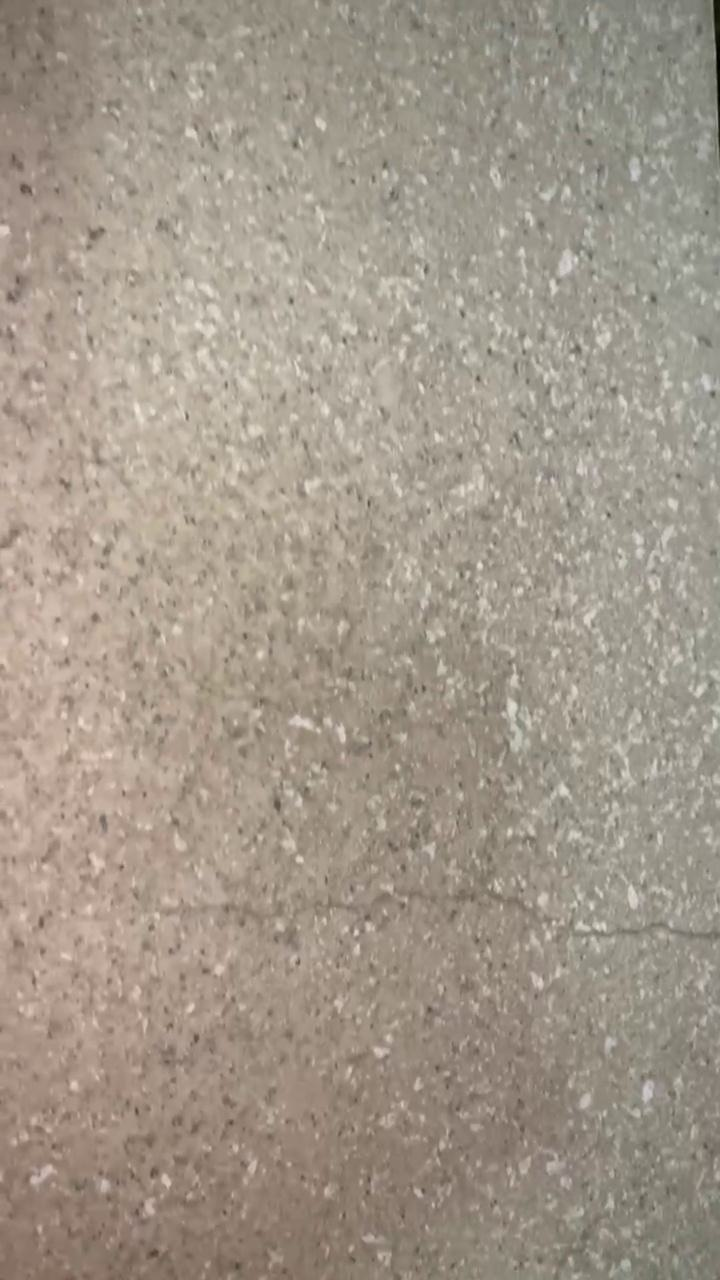Crack: (154, 889, 720, 943)
